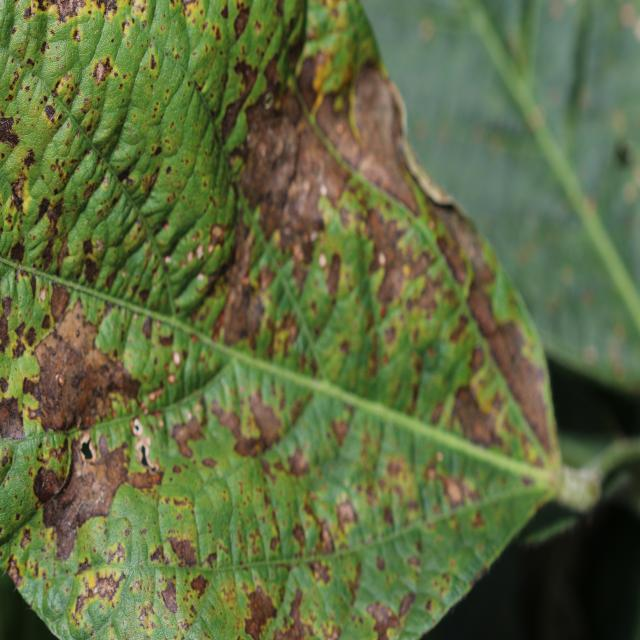Bacterial_Blight: (22, 292, 160, 439), (236, 101, 324, 251), (343, 63, 424, 219), (484, 321, 556, 458), (210, 388, 281, 458), (218, 270, 256, 352), (219, 71, 260, 140), (240, 583, 279, 639), (467, 286, 499, 338), (364, 598, 401, 639), (297, 52, 323, 105), (51, 513, 78, 560), (0, 392, 26, 440), (167, 536, 200, 568), (90, 571, 122, 603), (439, 473, 468, 508), (49, 281, 71, 322), (335, 497, 358, 535), (0, 296, 15, 351), (53, 0, 87, 23), (0, 115, 22, 149), (44, 198, 65, 230), (160, 578, 178, 614), (82, 252, 100, 286), (233, 6, 251, 39), (189, 573, 210, 599), (5, 555, 23, 585), (311, 560, 332, 585), (143, 166, 160, 196), (8, 239, 25, 265), (22, 325, 38, 348), (94, 61, 109, 83), (19, 528, 32, 550), (43, 103, 57, 123), (82, 237, 95, 257), (150, 545, 164, 563)
Soybean: (0, 0, 603, 640)
